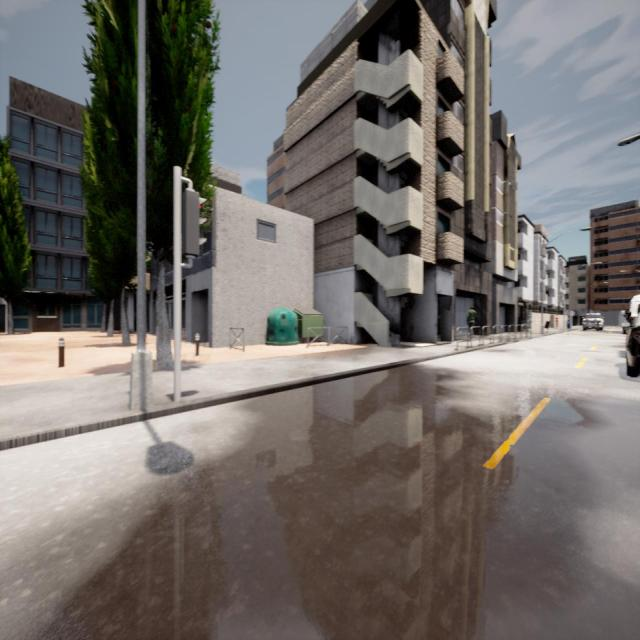Pedestrian: (467, 304, 477, 332), (555, 315, 559, 330)
Vehicle: (624, 294, 640, 376), (583, 313, 604, 329)
traffic_light: (185, 191, 208, 258)
